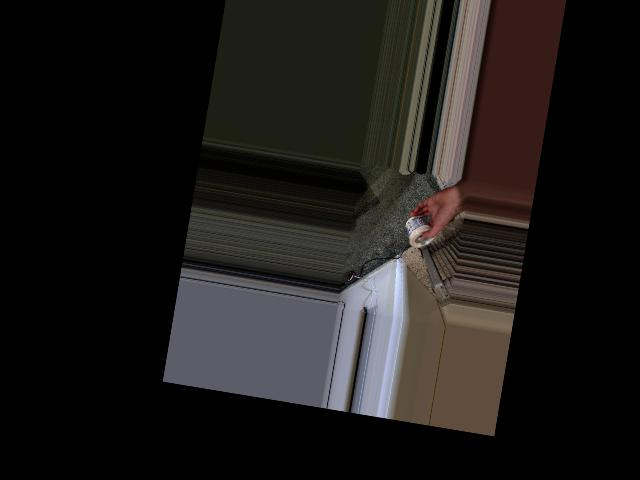cotage: (402, 211, 436, 248)
